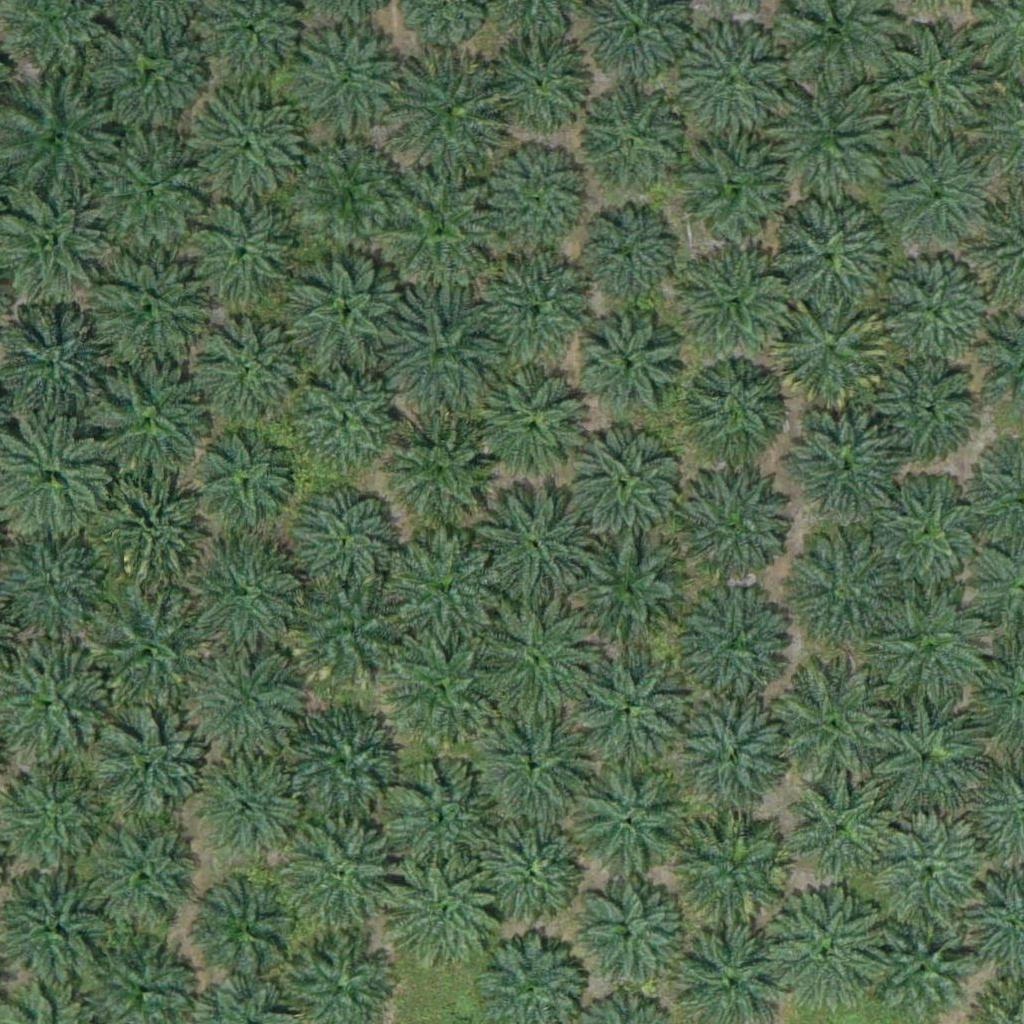Kelapa_Sawit: (866, 27, 991, 153), (764, 199, 889, 325), (758, 78, 883, 204), (673, 126, 798, 252), (375, 296, 500, 422), (390, 50, 515, 176), (286, 259, 411, 385), (868, 471, 993, 597), (86, 248, 211, 374), (86, 130, 211, 256), (93, 14, 218, 140), (97, 457, 222, 583), (87, 580, 212, 706), (88, 709, 213, 835), (183, 647, 308, 773), (184, 537, 309, 663), (281, 700, 406, 826), (277, 811, 402, 937), (385, 856, 510, 982), (378, 758, 503, 884), (470, 595, 595, 721), (472, 699, 597, 825), (468, 806, 593, 932), (566, 877, 691, 1003), (566, 760, 691, 886), (673, 463, 798, 589), (676, 581, 801, 707), (672, 807, 797, 933), (769, 663, 894, 789), (776, 531, 901, 657), (781, 403, 906, 529), (865, 594, 990, 720), (859, 697, 984, 823), (867, 819, 992, 945), (771, 296, 896, 421), (673, 238, 798, 363), (471, 481, 596, 606), (572, 643, 697, 768), (572, 531, 697, 656), (672, 694, 797, 819), (767, 890, 892, 1015), (187, 196, 300, 310), (200, 319, 313, 433), (882, 139, 995, 252), (880, 253, 993, 366), (481, 136, 594, 249), (196, 93, 309, 206), (86, 822, 199, 935), (292, 365, 405, 478), (385, 529, 498, 642), (287, 484, 400, 597), (294, 582, 407, 695), (677, 28, 789, 141), (485, 257, 597, 370), (379, 174, 491, 287), (290, 28, 402, 141), (95, 367, 207, 480), (193, 872, 305, 985), (385, 408, 497, 521), (481, 370, 593, 483), (875, 354, 975, 455), (685, 354, 785, 455), (580, 314, 680, 415), (572, 207, 672, 308), (582, 90, 682, 191), (488, 35, 588, 136), (294, 141, 394, 242), (195, 434, 295, 535), (393, 635, 493, 736), (575, 437, 675, 538), (792, 781, 892, 882), (205, 767, 305, 867), (877, 929, 964, 1018)
